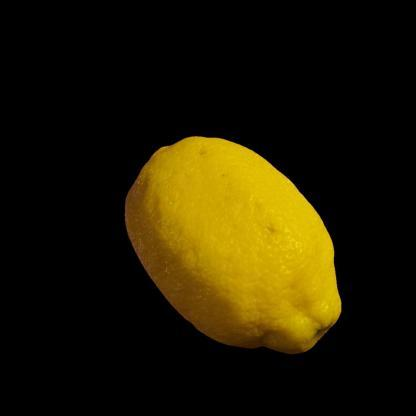lemon: (124, 135, 342, 354)
